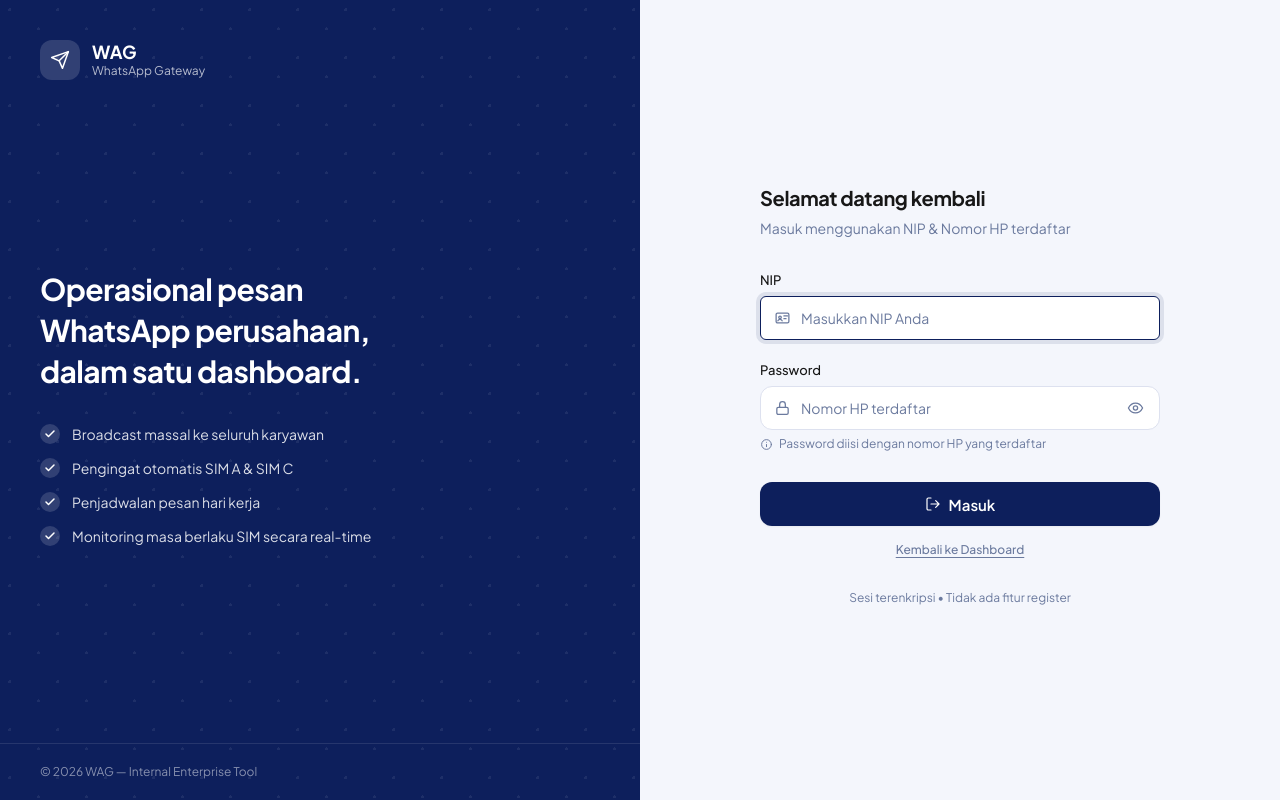
Test: LoginPage › menampilkan pesan error saat password kosong
Type "0001" into the field labelled "NIP" at (960, 318), box [760,296,1160,340]
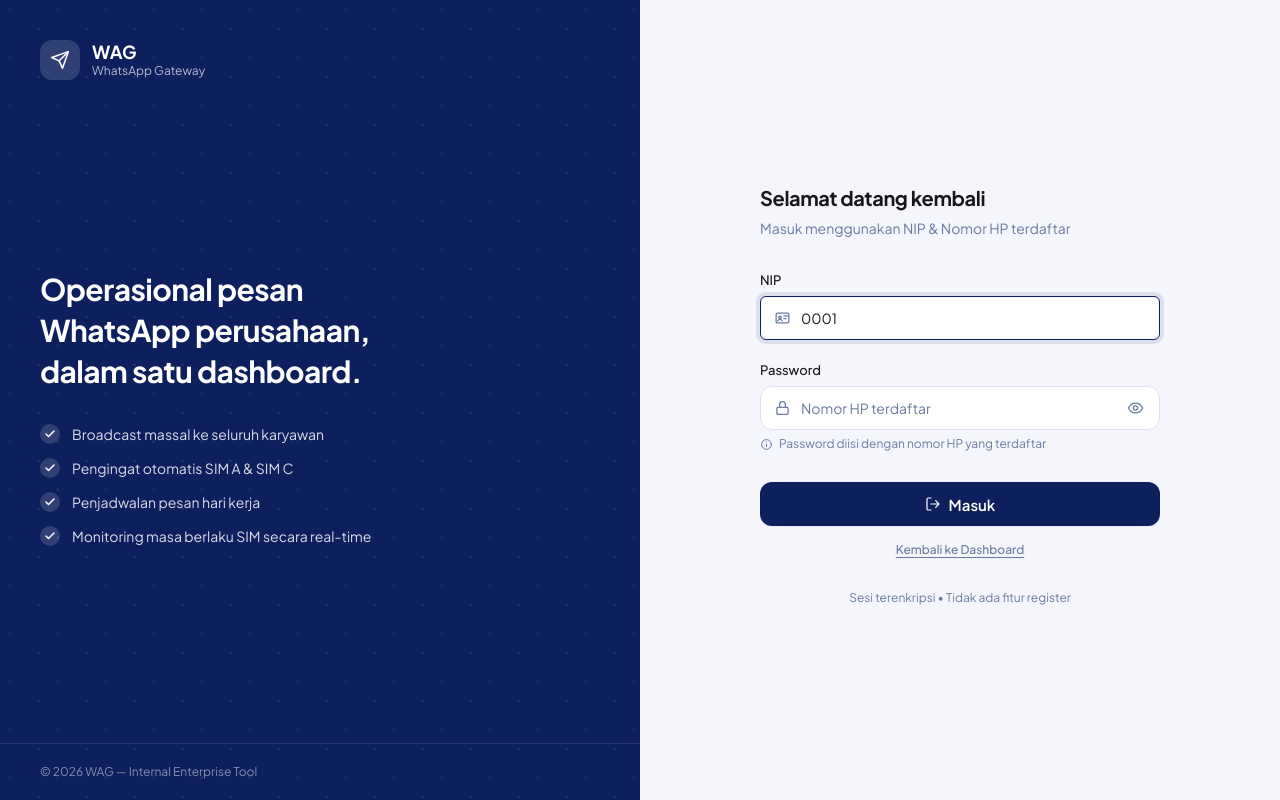
Click the button "Masuk" at (960, 504), box [760,482,1160,526]
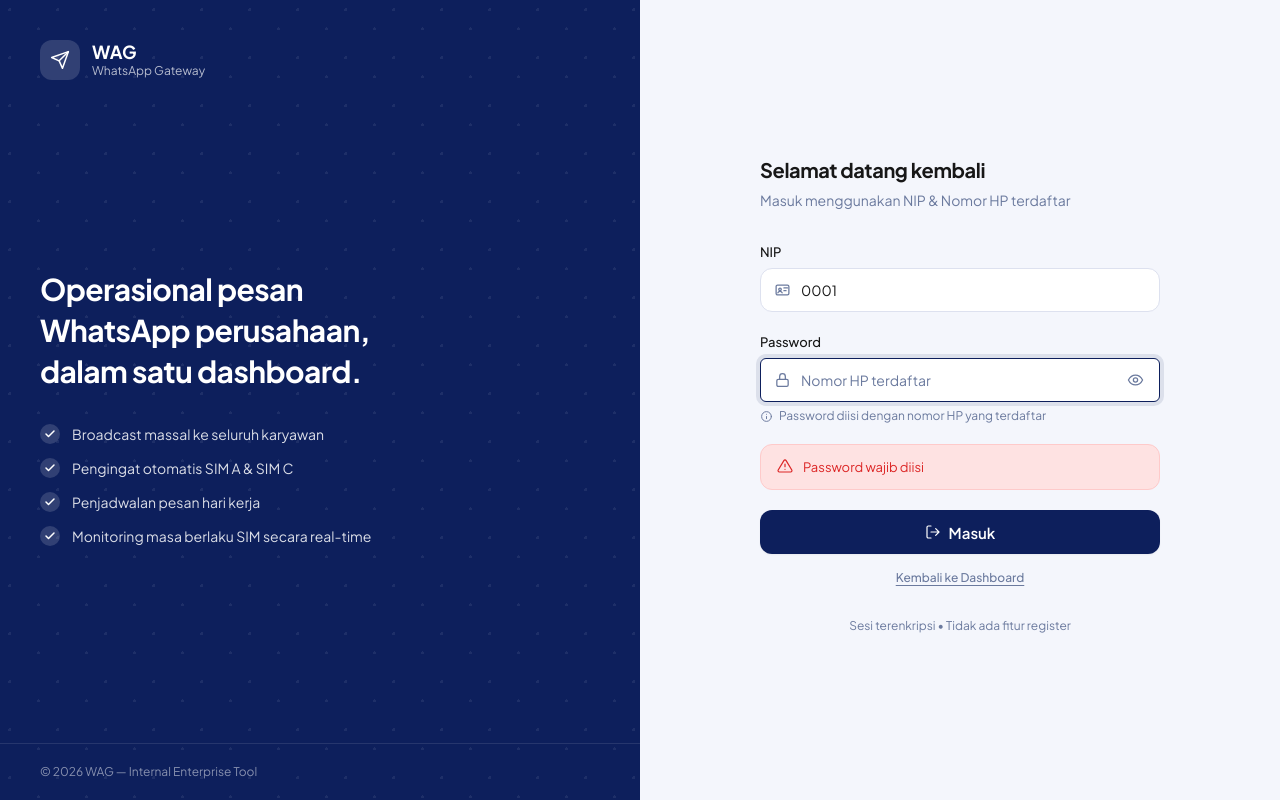
Expected: the text "Password wajib diisi" is shown, [760,444,1160,490]
